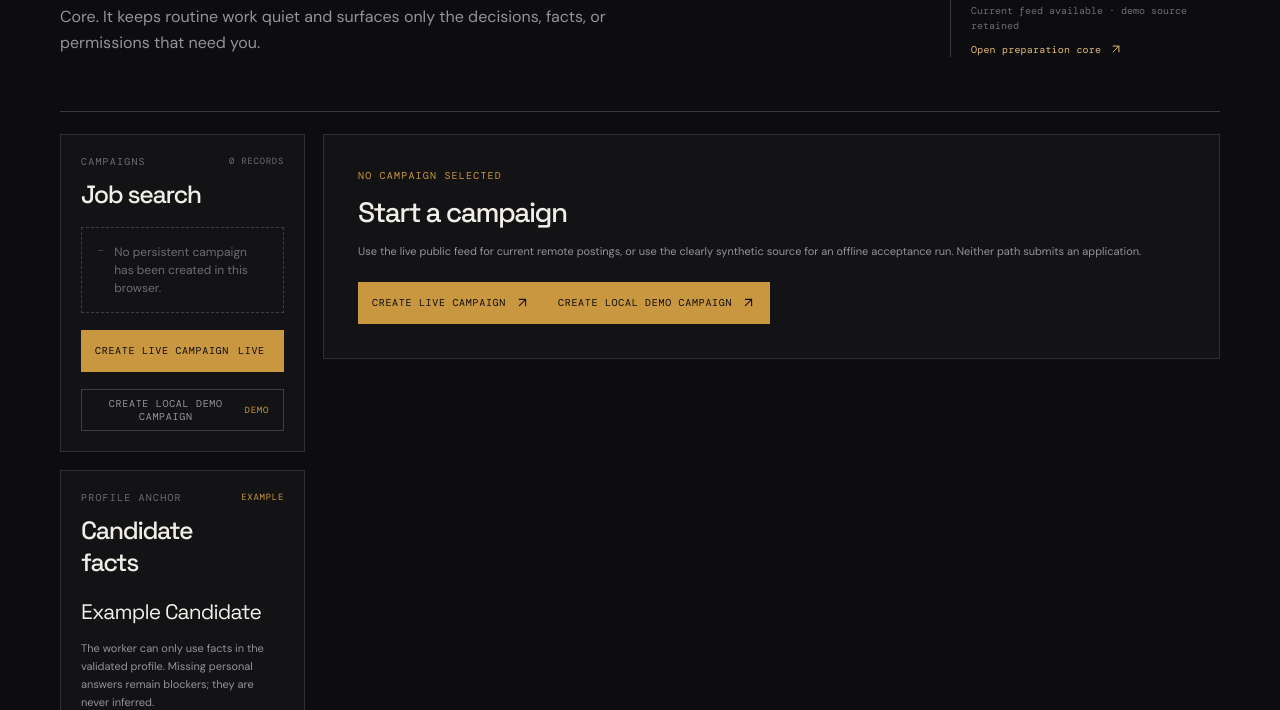
Test: Autonomous Career Agent HQ surface › exposes a distinct live campaign without presenting it as demo data
(page scrolled)
Click the button "Create live campaign LIVE": point(182, 351) [81,330,284,372]
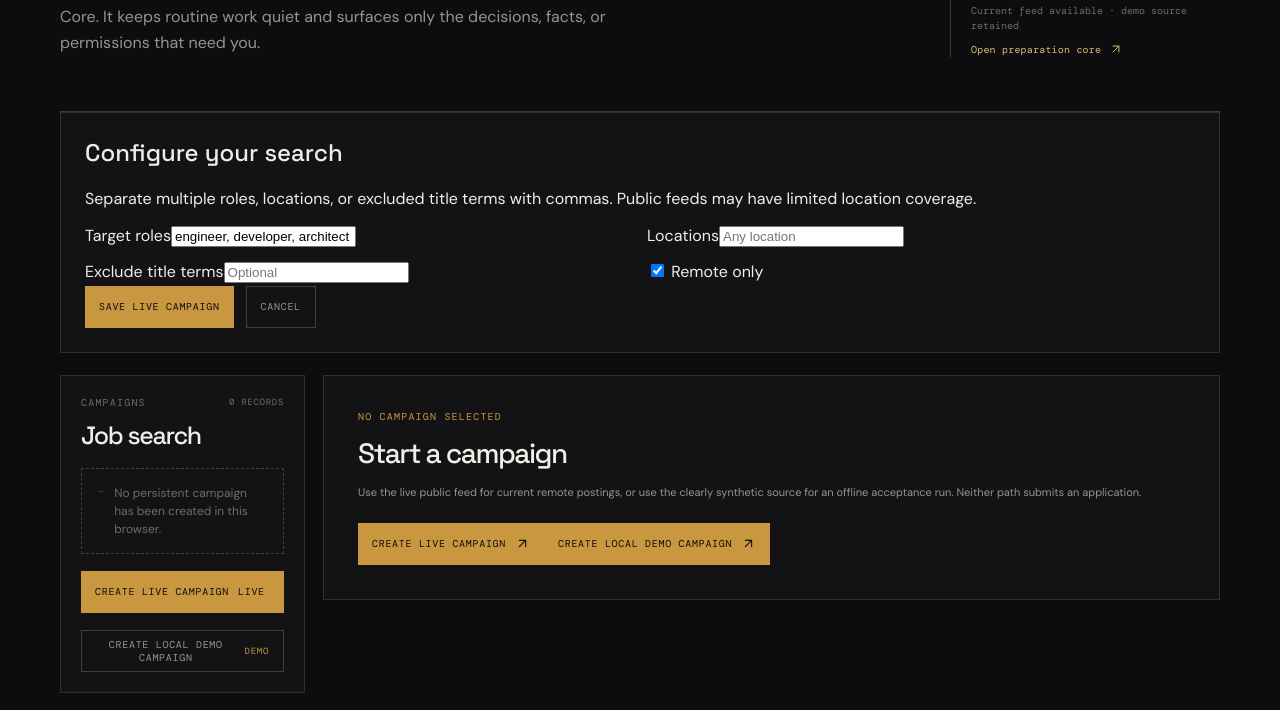
Replace the text in the field labelled "Target roles" with "platform engineer, frontend developer": point(264, 236) [171,226,356,247]
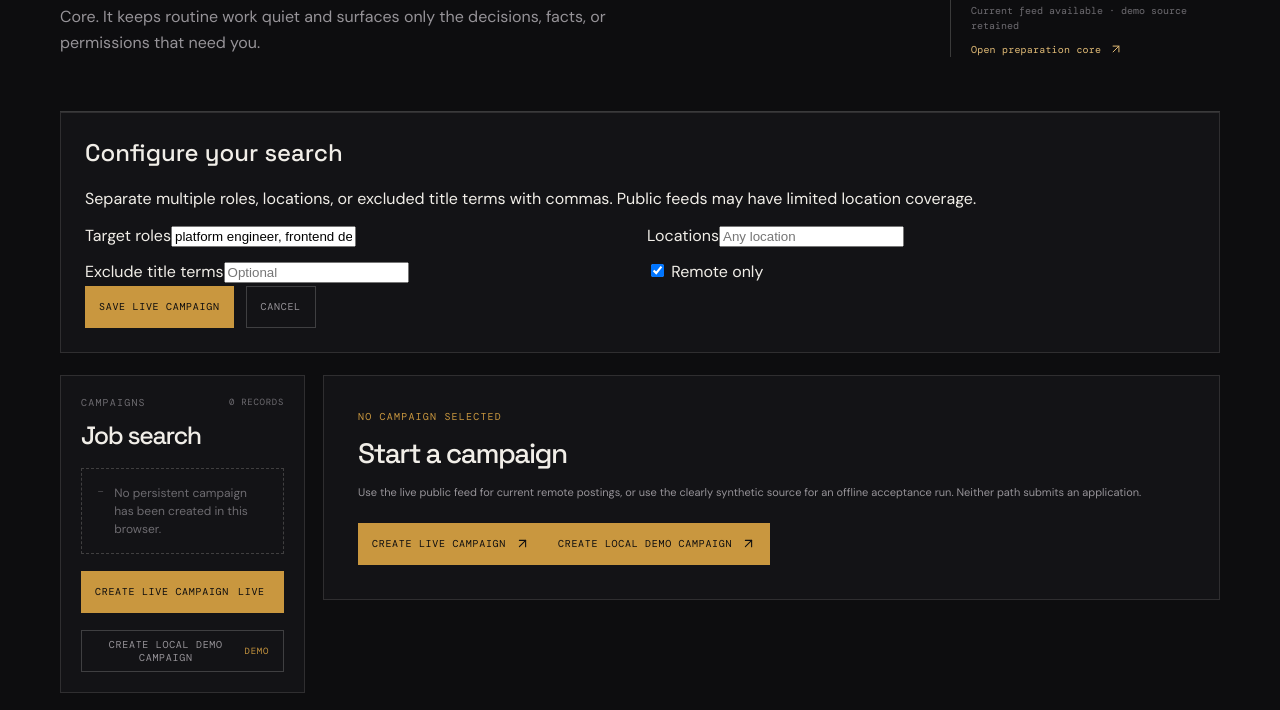
In the field labelled "Locations": point(812, 236) [719,226,904,247], type "United States"
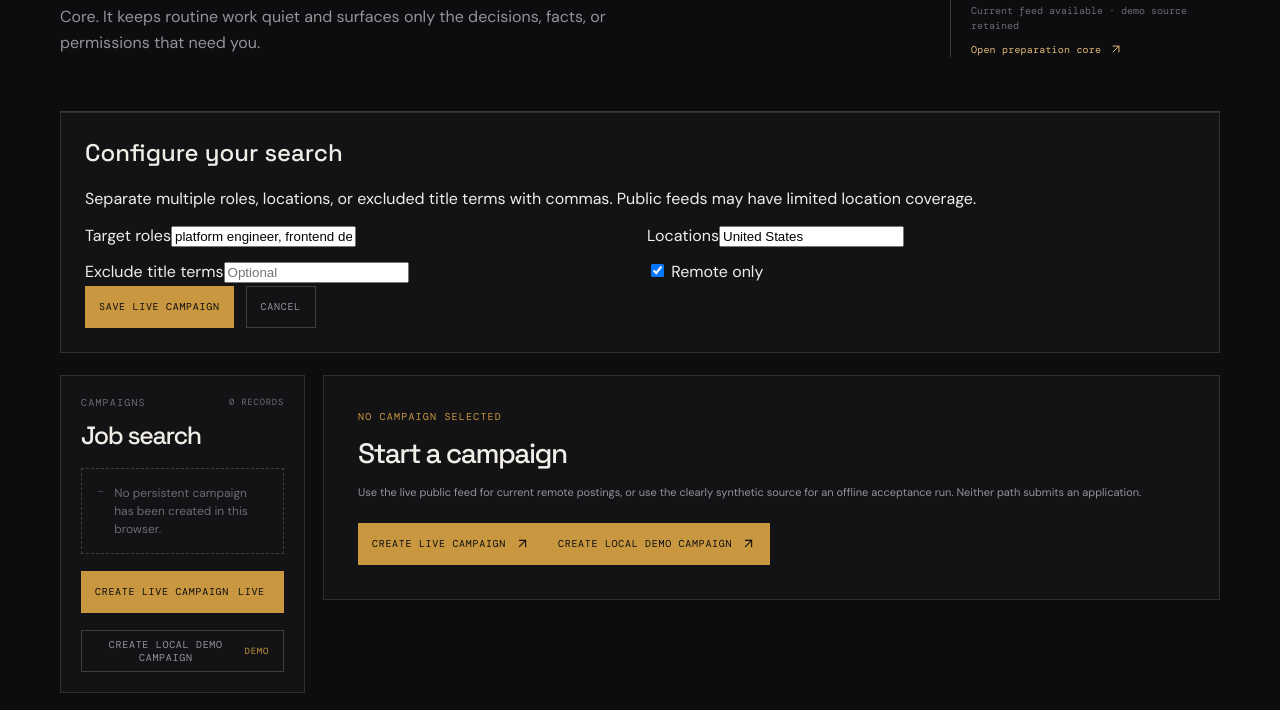
In the field labelled "Exclude title terms": point(316, 272) [224,262,408,283], type "principal, director"
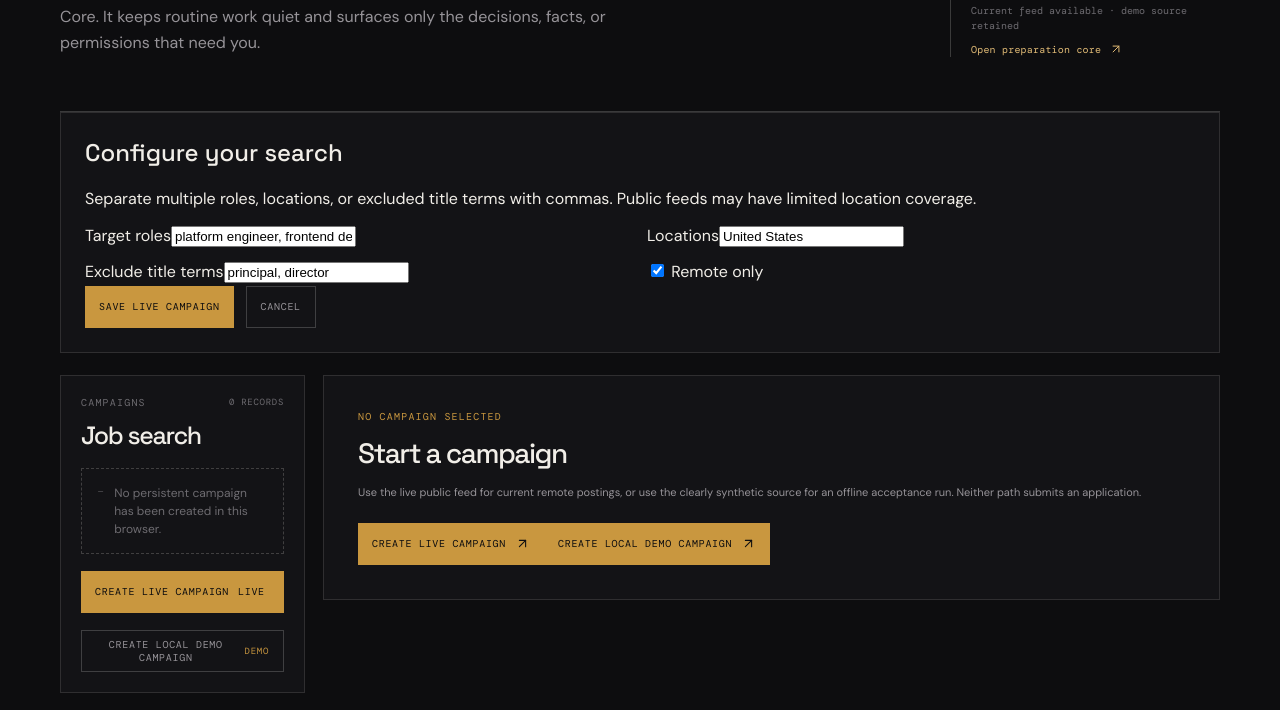
Click the button "Save live campaign": point(159, 307) [85,286,234,328]
(page scrolled)
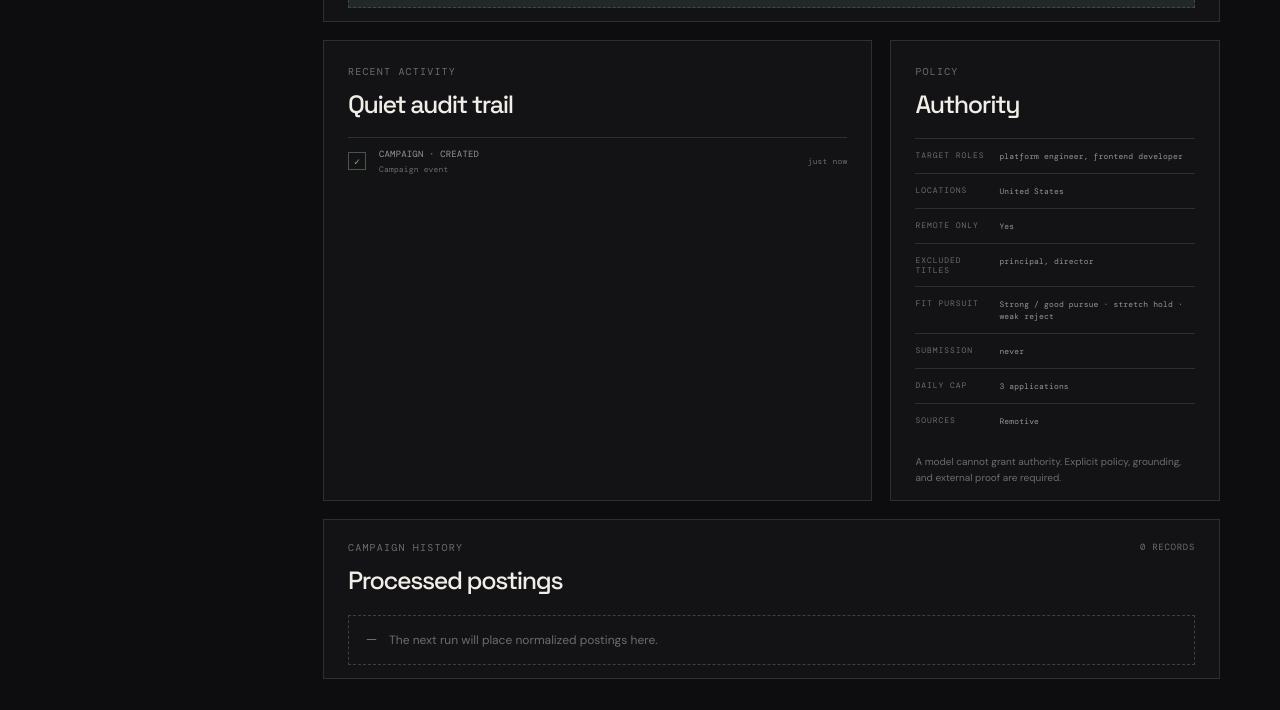
expect the text "never" is shown: met, box [999,346,1024,356]
